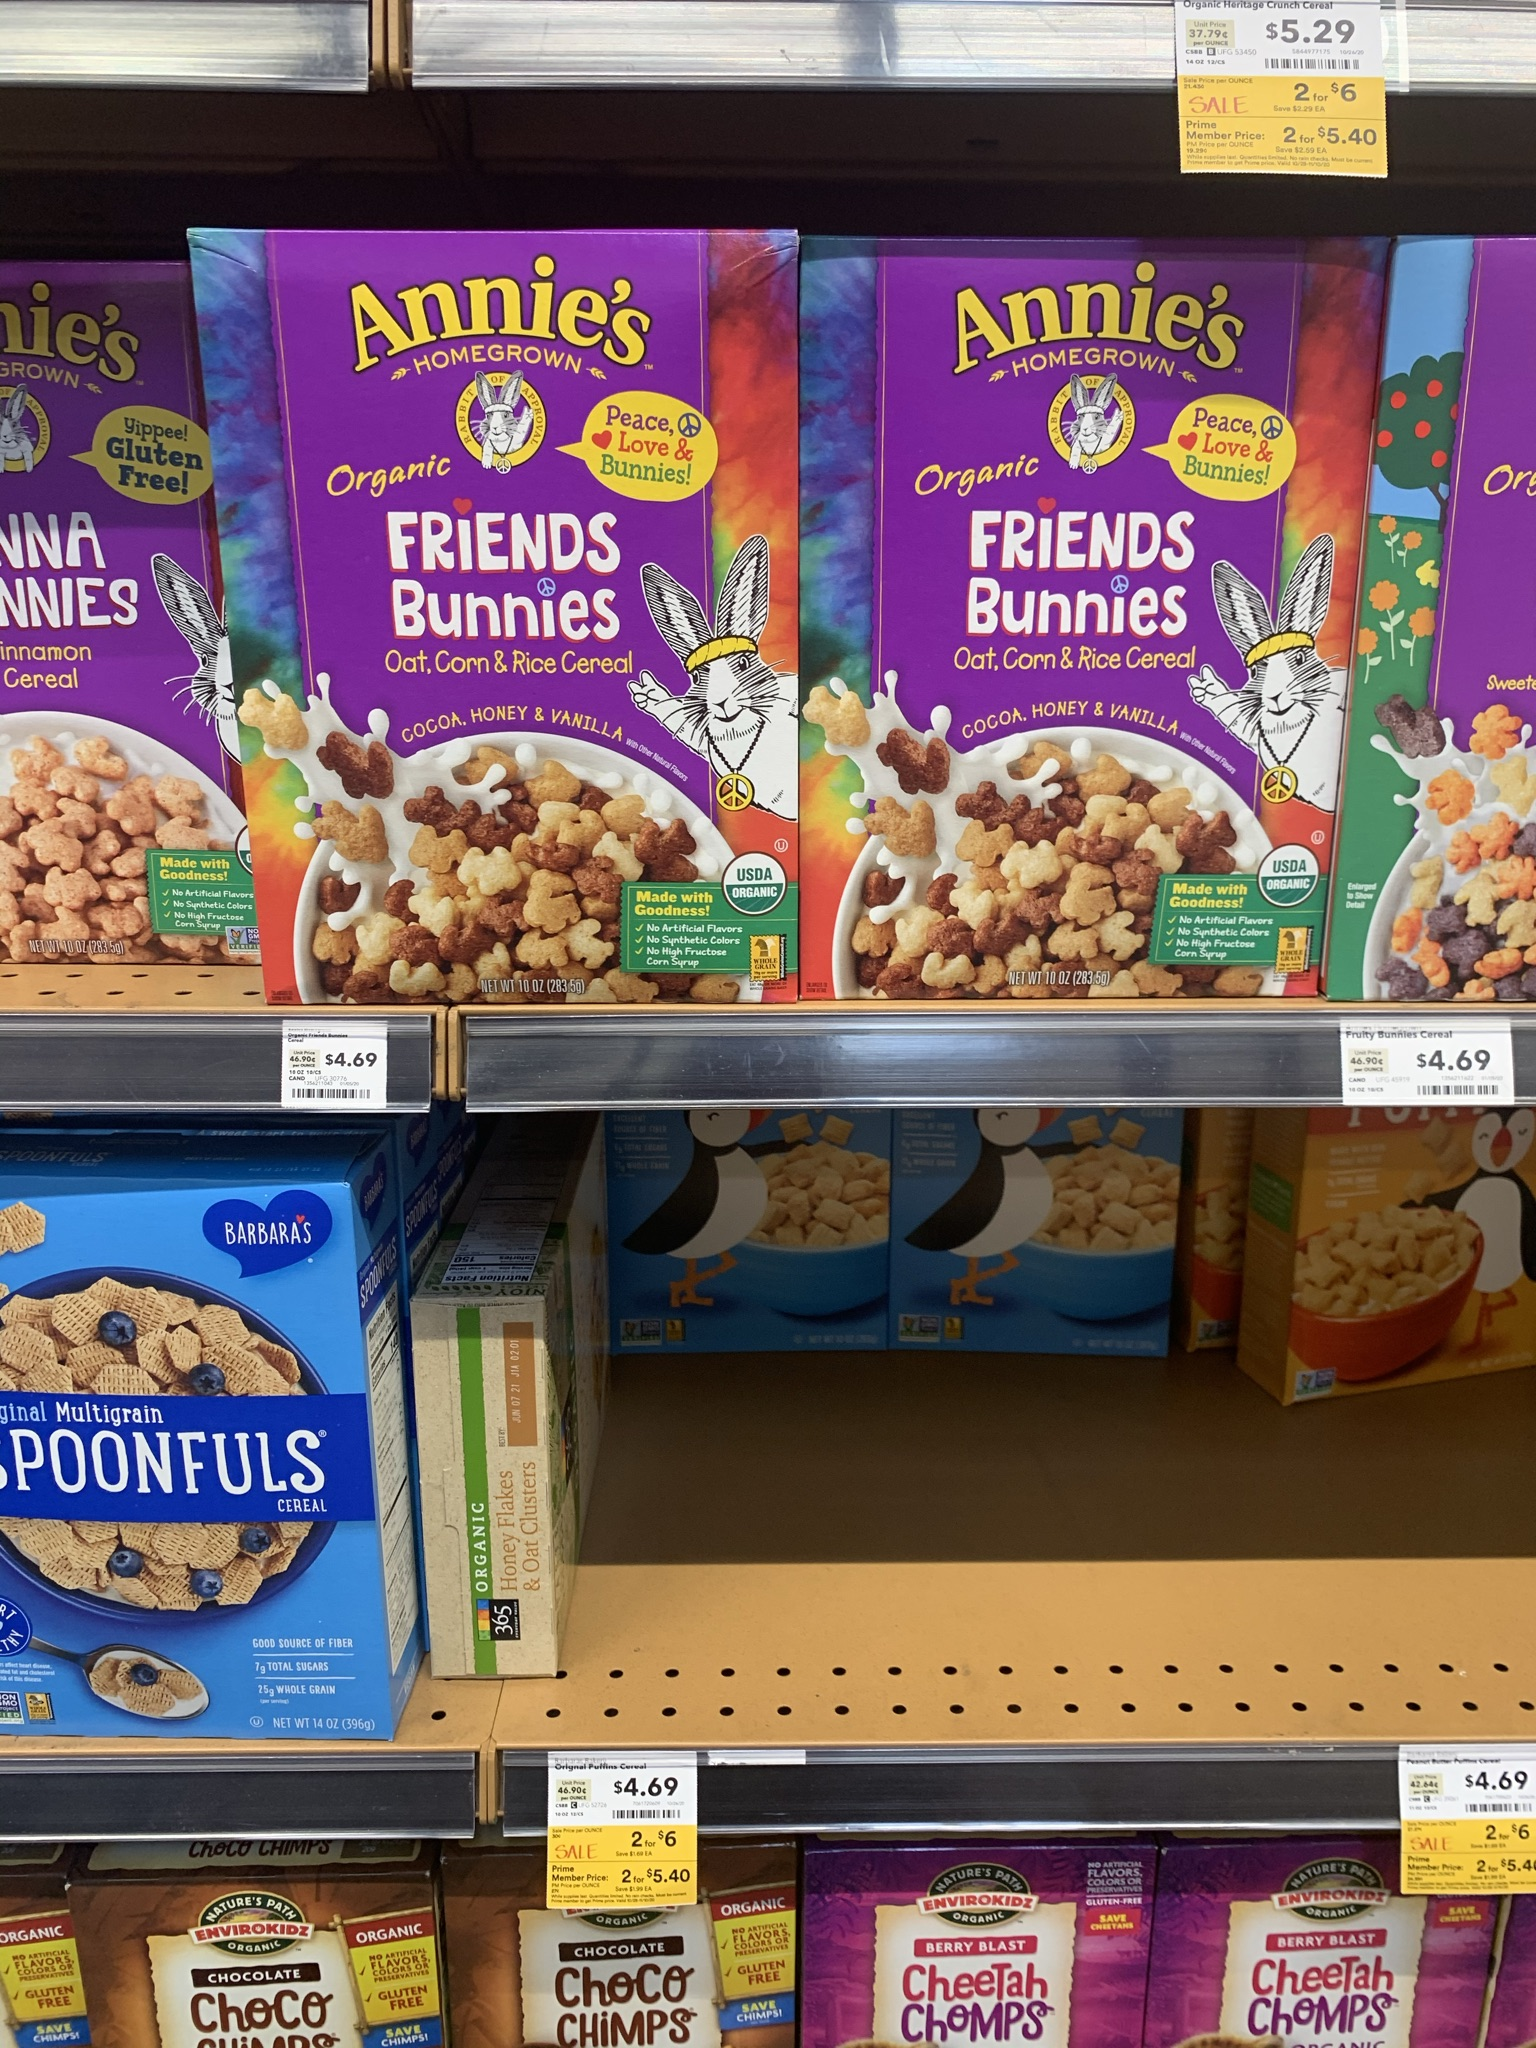Cereal: (797, 231, 1396, 1005), (252, 214, 807, 1006)
